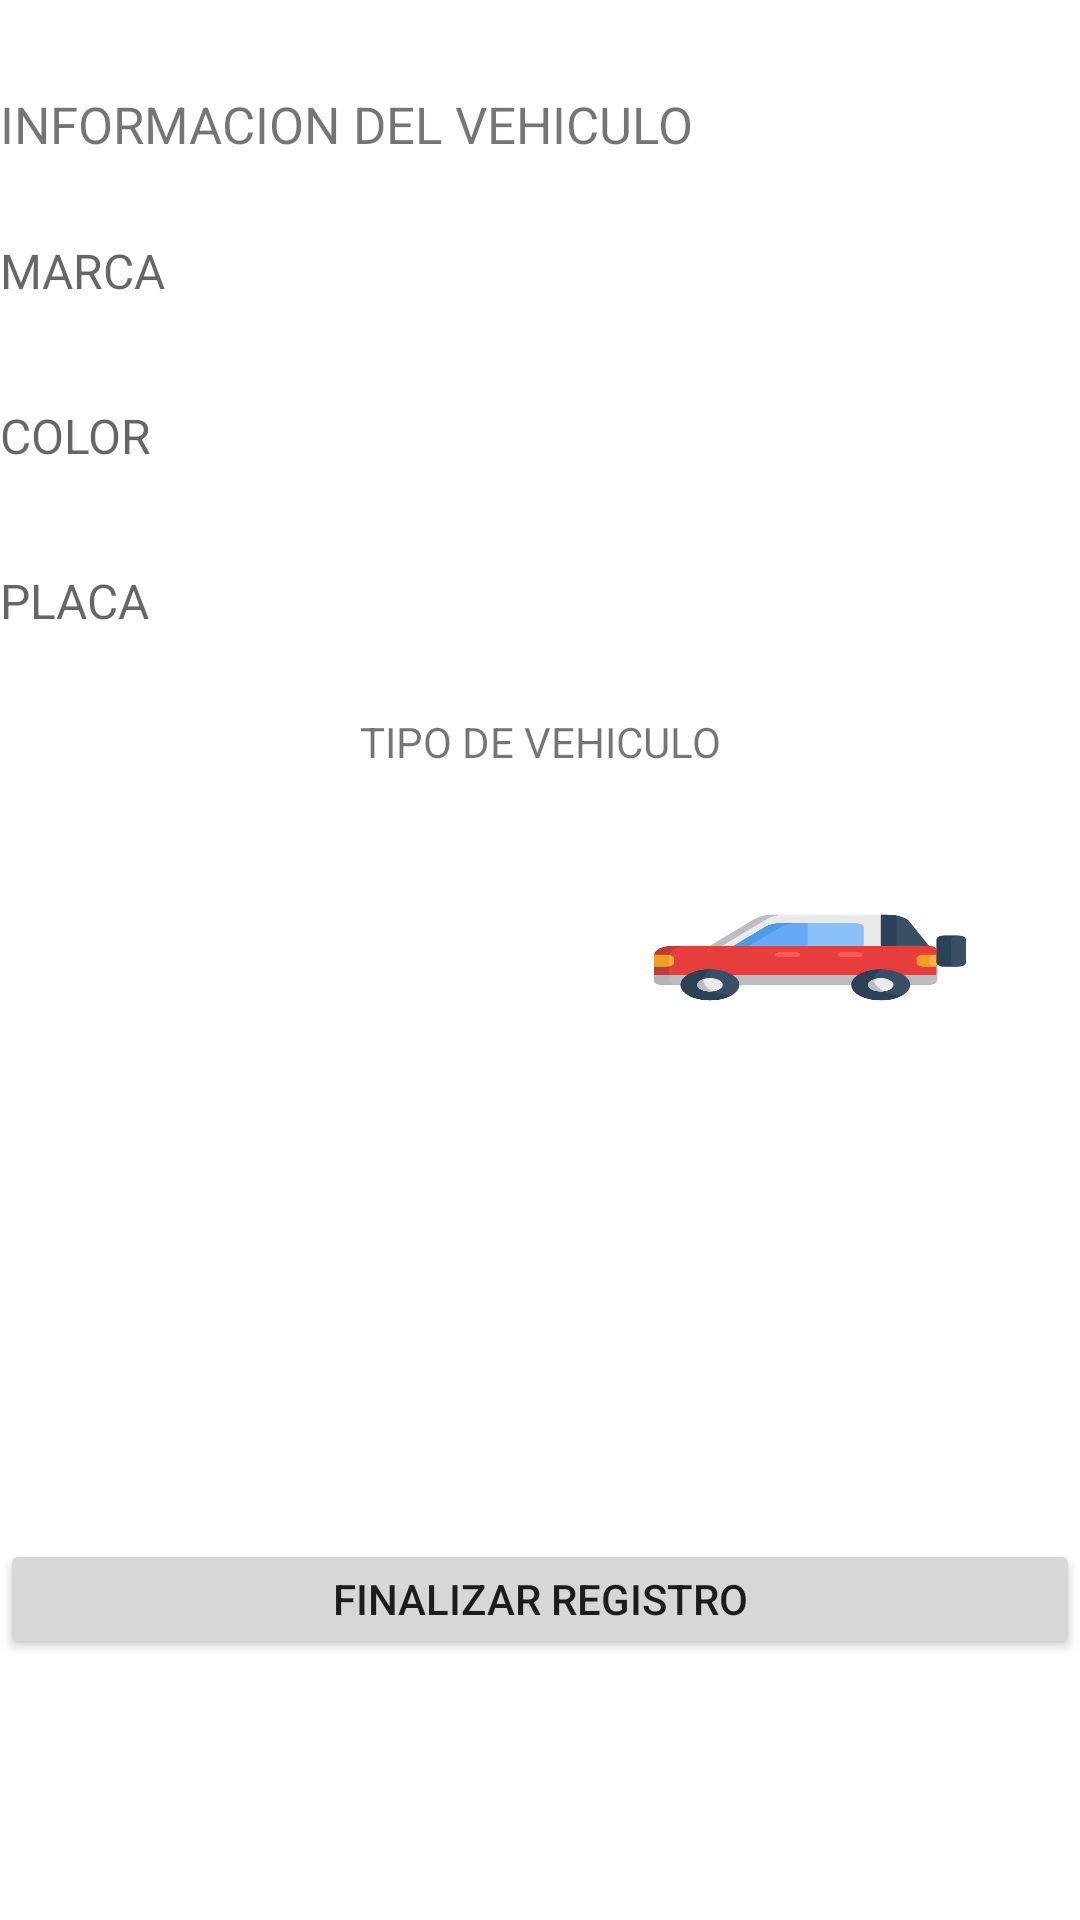

Icons on this 1080px×1920px Android screen, each with the point to tap as (x,y):
car: (810,957)
